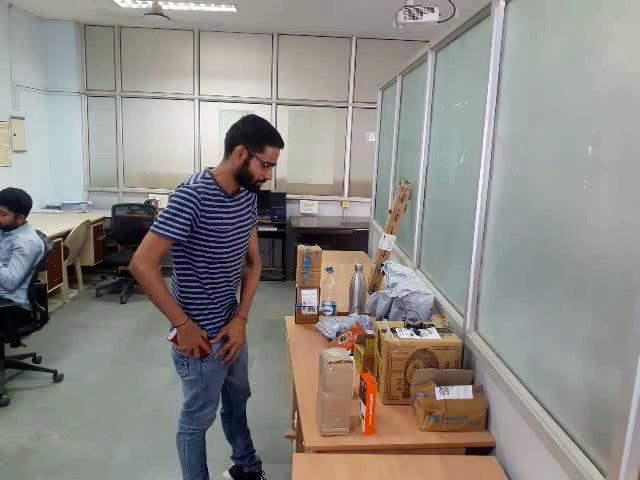shoplifting: (134, 302, 279, 390)
